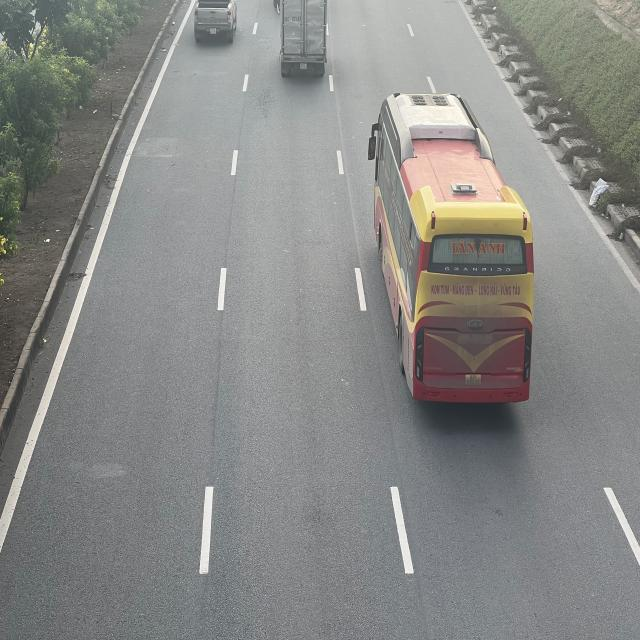car: (194, 0, 239, 42)
coach: (368, 93, 533, 412)
truck: (274, 0, 327, 75)
